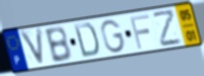B: (43, 25, 73, 65)
D: (72, 22, 101, 59)
F: (129, 13, 152, 51)
G: (100, 18, 127, 54)
V: (17, 25, 47, 68)
Z: (152, 8, 184, 49)
